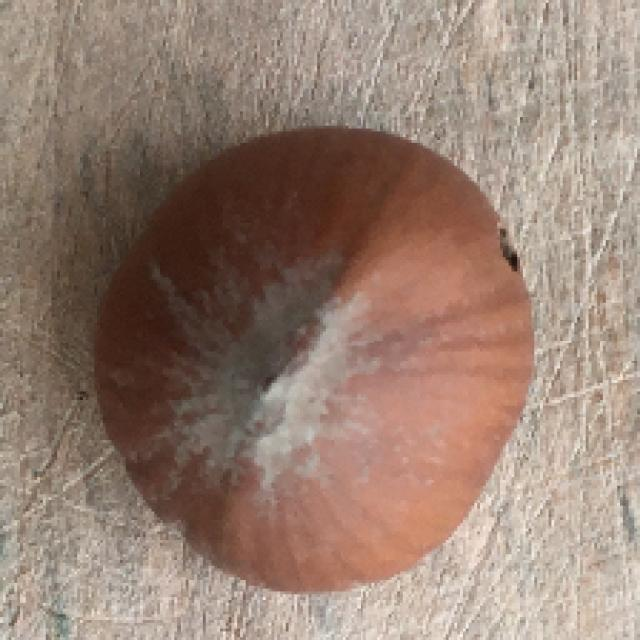DamagedHazelnut: (90, 124, 531, 588)
